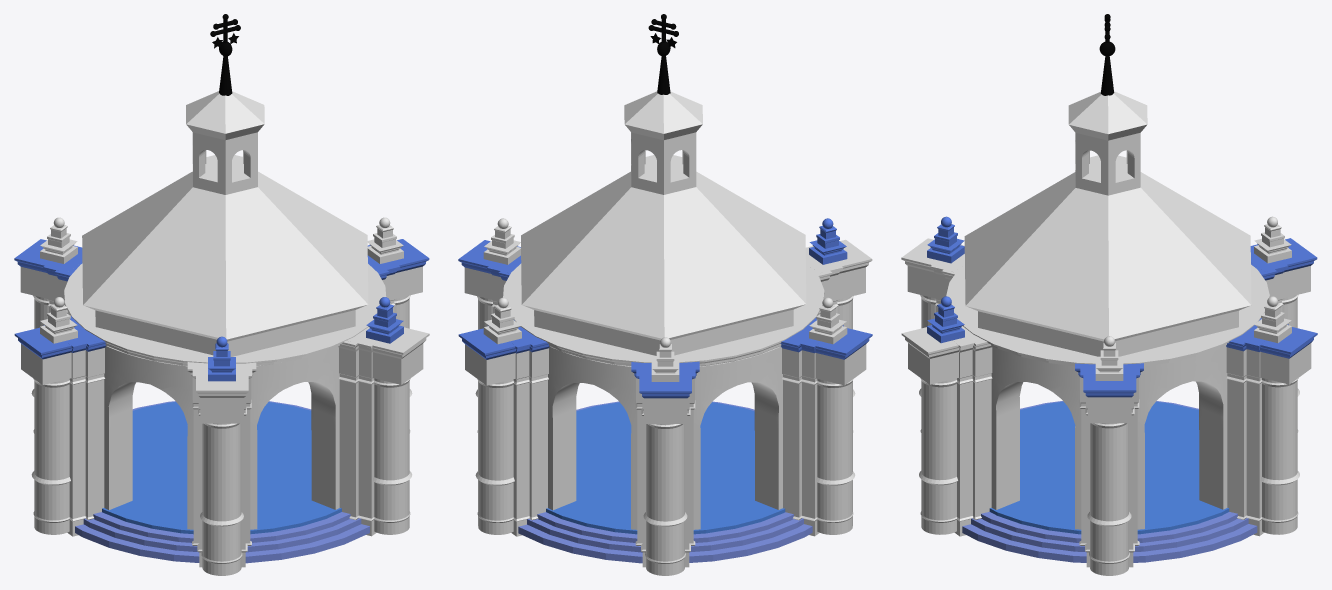
Rendered from Templete.fbx.
The picture shows the model from 3 angles, left to right: view 1: azimuth 30°, elevation 25°; view 2: azimuth 150°, elevation 25°; view 3: azimuth 270°, elevation 25°; orthographic projection.
Visible parts, largest first — view 1: Techo, Plataforma, Pilar.006, Pilar.003, Pilar.005, Cube, Cube.007, Pilar.007, Pilar.002; view 2: Techo, Plataforma, Pilar.006, Pilar.001, Pilar.007, Cube.006, Cube.005, Pilar.005, Pilar.002; view 3: Techo, Plataforma, Pilar.001, Pilar.003, Pilar.002, Cube.004, Cube.001, Pilar.007, Pilar.005.
Part boxes in pixels (<box>): Techo: <box>64,91,386,365</box>; Plataforma: <box>75,401,369,563</box>; Pilar.006: <box>14,297,106,536</box>; Pilar.003: <box>338,297,429,536</box>; Pilar.005: <box>187,336,256,575</box>; Cube: <box>250,346,339,529</box>; Cube.007: <box>104,346,193,529</box>; Pilar.007: <box>14,217,82,433</box>; Pilar.002: <box>367,217,429,433</box>; Techo: <box>503,91,824,366</box>; Plataforma: <box>518,401,812,563</box>; Pilar.006: <box>780,297,872,536</box>; Pilar.001: <box>458,297,549,536</box>; Pilar.007: <box>631,337,699,575</box>; Cube.006: <box>693,346,782,529</box>; Cube.005: <box>548,346,637,529</box>; Pilar.005: <box>805,218,872,432</box>; Pilar.002: <box>458,218,521,432</box>; Techo: <box>946,91,1269,366</box>; Plataforma: <box>962,401,1257,562</box>; Pilar.001: <box>1226,296,1317,536</box>; Pilar.003: <box>901,296,992,536</box>; Pilar.002: <box>1075,336,1143,575</box>; Cube.004: <box>1137,345,1227,529</box>; Cube.001: <box>991,346,1081,529</box>; Pilar.007: <box>1250,216,1317,432</box>; Pilar.005: <box>901,216,964,432</box>.
Size of the model in its own units: 4118 by 4806 by 3811.
